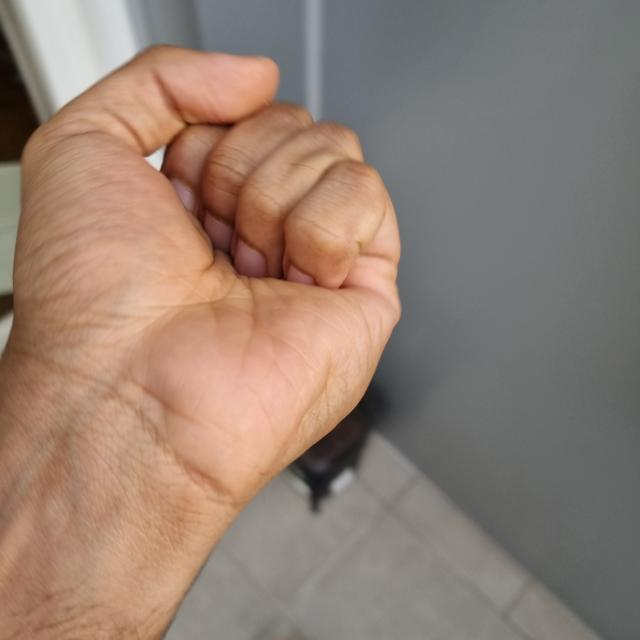Rock: (2, 44, 403, 494)
